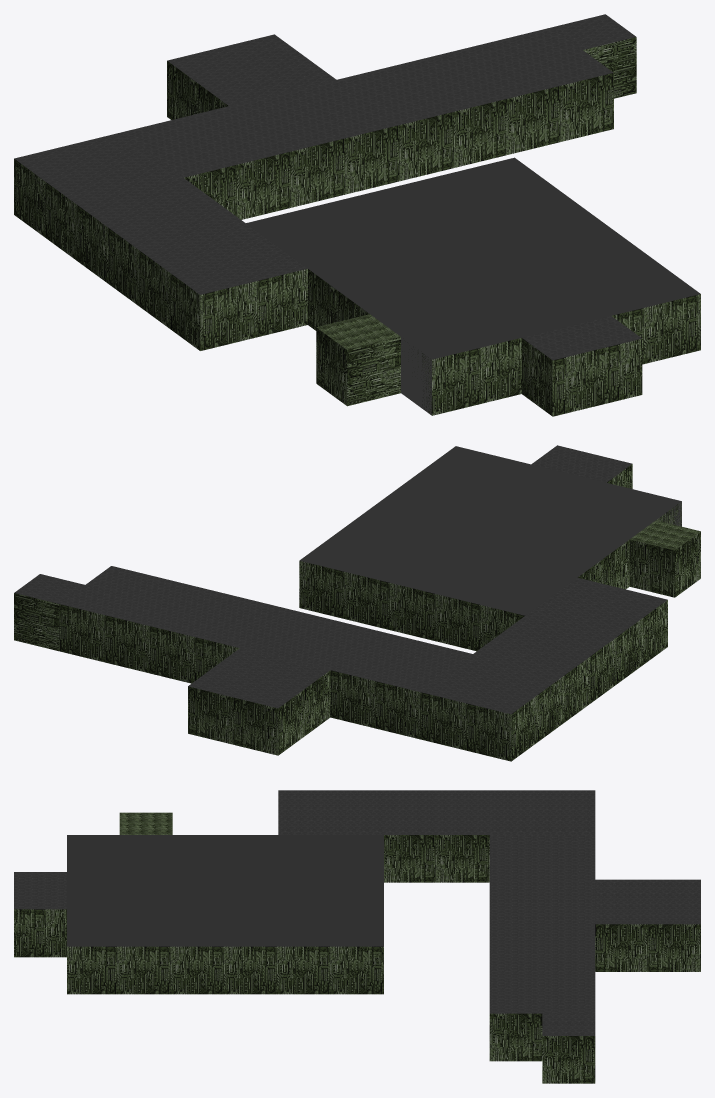
File: mapa1.glb
The picture shows the model from 3 angles, top to bottom: view 1: azimuth 30°, elevation 25°; view 2: azimuth 150°, elevation 25°; view 3: azimuth 270°, elevation 25°; orthographic projection. The views are drawn at different scales.
Parts seen in each view (by area): view 1: Plane; view 2: Plane; view 3: Plane.
Part boxes in pixels (<box>): Plane: <box>14,14,700,416</box>; Plane: <box>14,445,700,761</box>; Plane: <box>14,790,700,1083</box>.
Size of the model in its own units: 11 by 1 by 13.
Materials: 2 (2 with a texture image).
